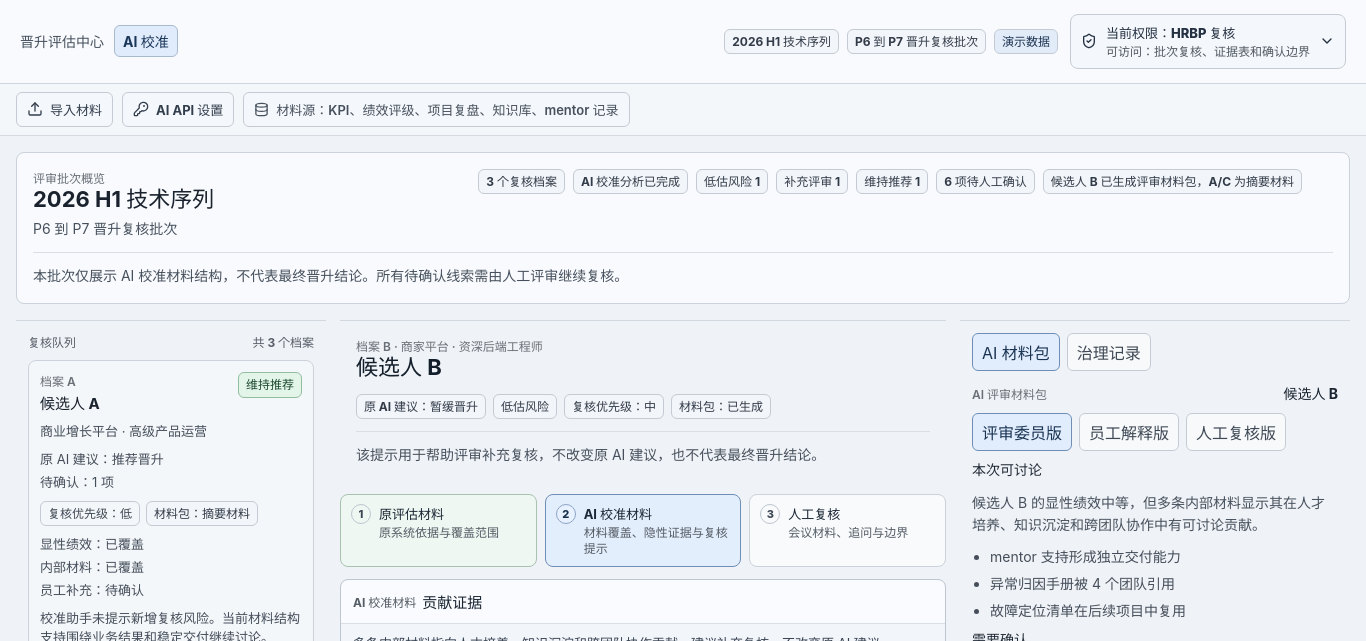
Test case: promotion assessment center AI calibration module › switches to the employee portal without exposing review queue or committee prompts
Click the button with aria-label "切换权限上下文" at [1208, 41], box [1070, 14, 1346, 69]
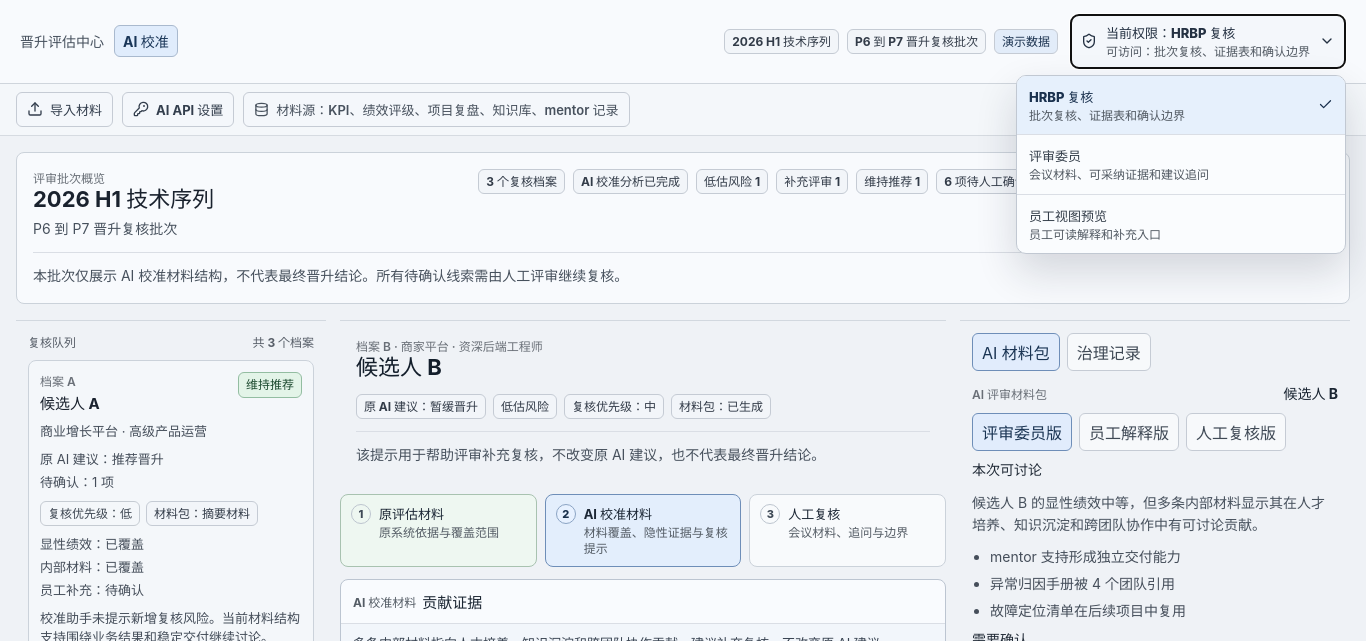
Click the button "员工视图预览 员工可读解释和补充入口" at [1068, 216], box [1017, 195, 1345, 253]
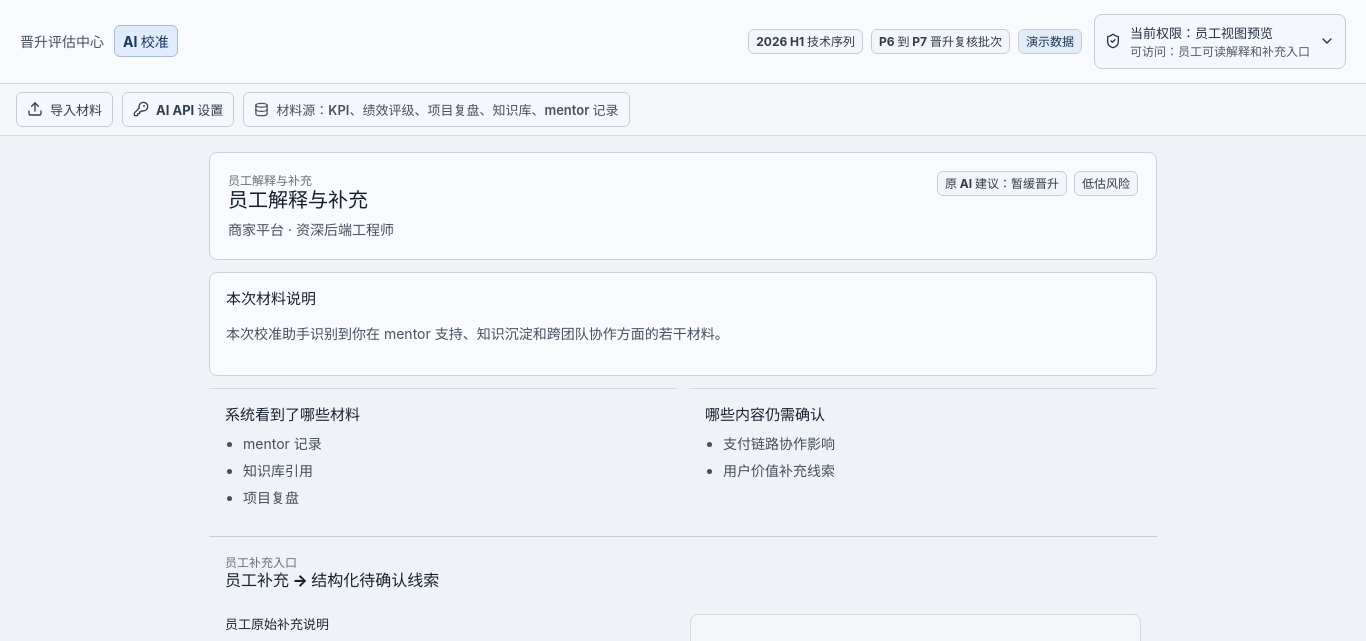
Result: the heading "员工解释与补充" is shown at [228, 188, 368, 212]
Result: the text "员工补充入口" is shown at [225, 555, 297, 570]
Result: the text "复核队列" is gone
